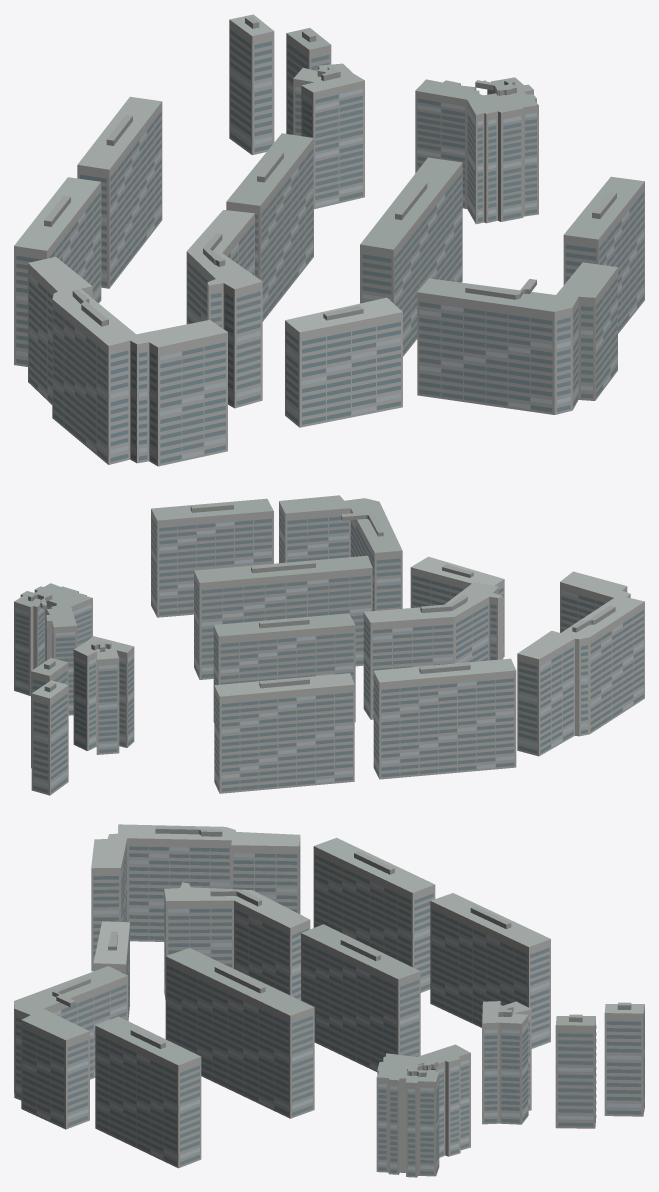
The model's file is apt-a12085303.glb.
The picture shows the model from 3 angles, top to bottom: view 1: azimuth 30°, elevation 25°; view 2: azimuth 150°, elevation 25°; view 3: azimuth 270°, elevation 25°; orthographic projection. The views are drawn at different scales.
Parts seen in each view (by area): view 1: apt-a12085303; view 2: apt-a12085303; view 3: apt-a12085303.
Boxes of the visible parts, x1,y1,x2,y2 form: apt-a12085303: [14, 14, 644, 466]; apt-a12085303: [14, 495, 644, 795]; apt-a12085303: [14, 824, 644, 1177].
Size of the model in its own units: 238 by 47.81 by 254.
